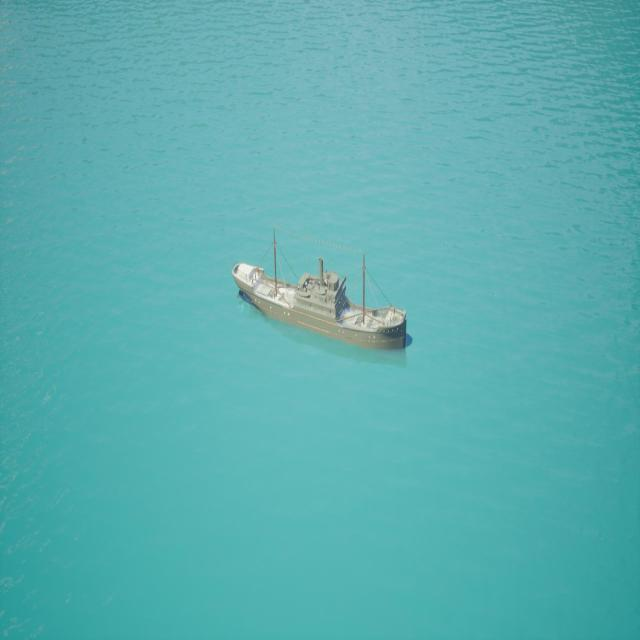fishing ship: (231, 227, 410, 357)
